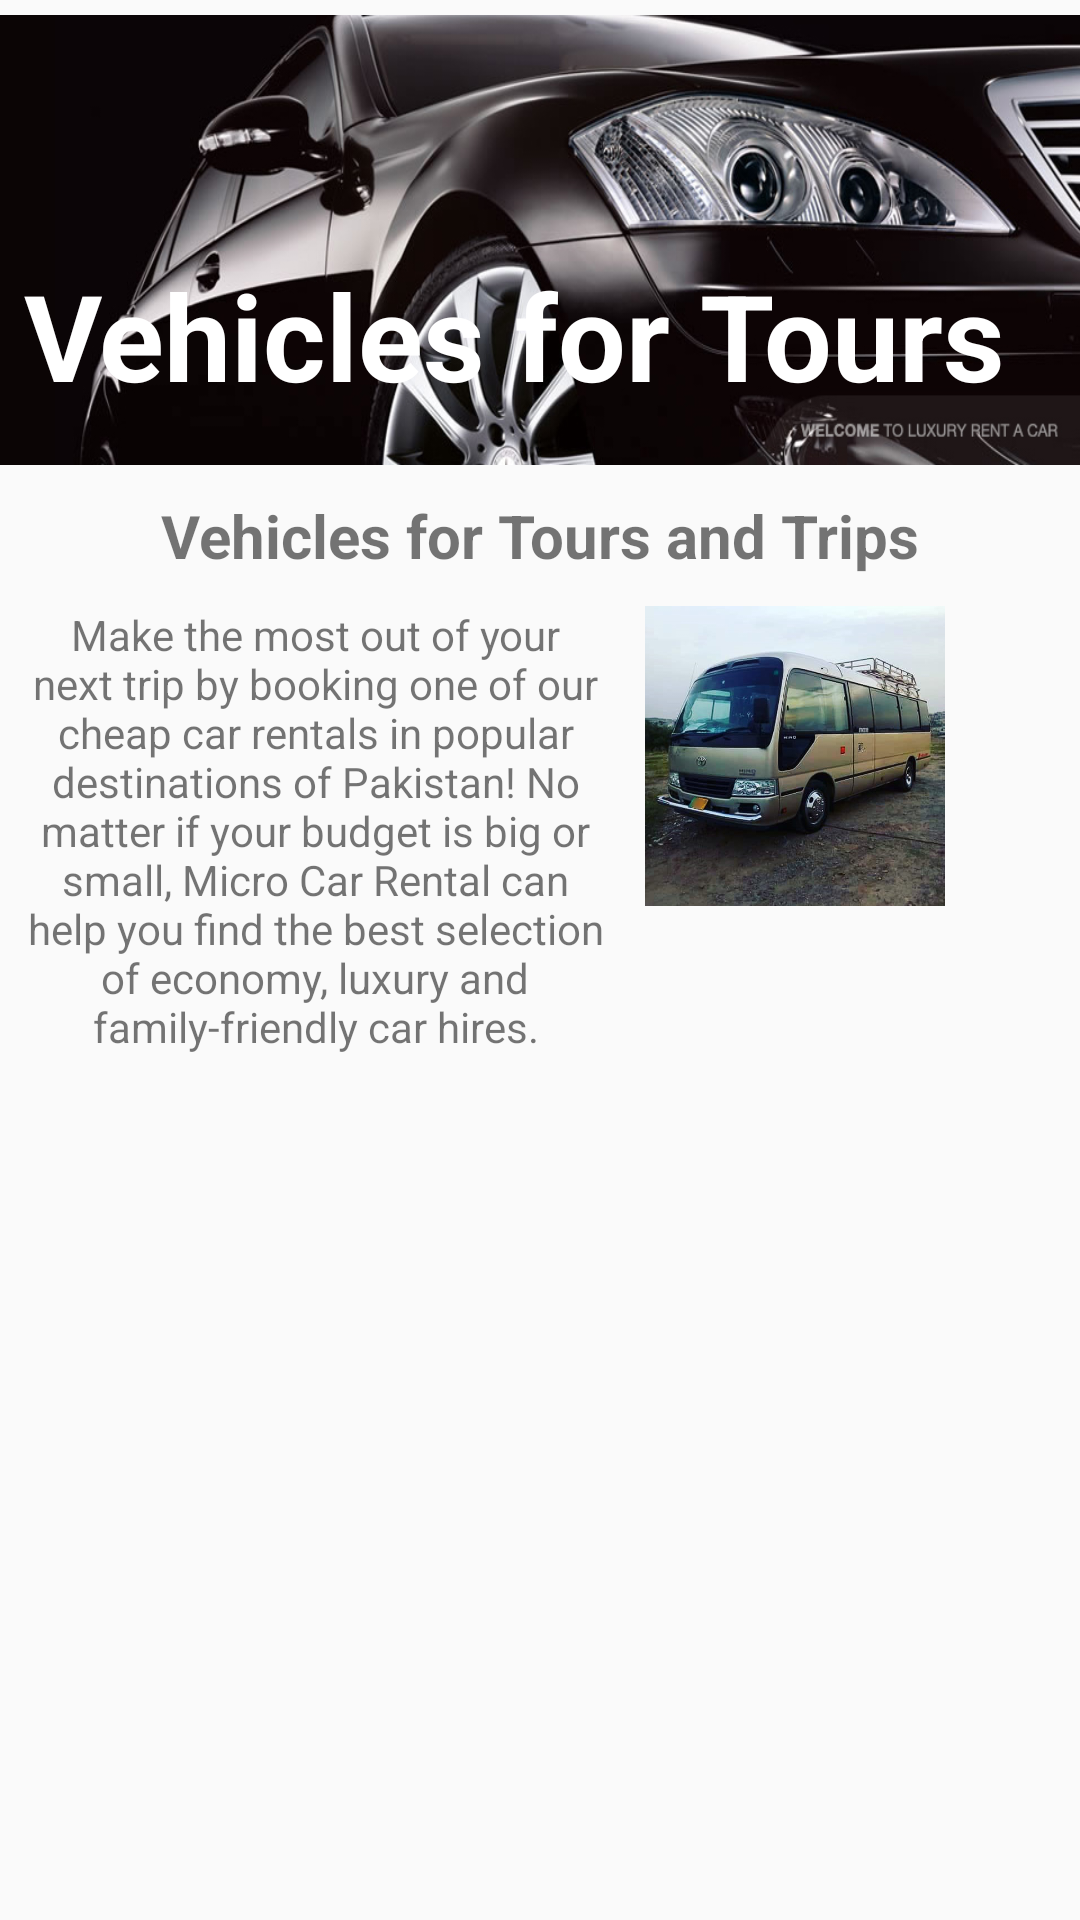

Named icons in this screenshot (1080*1920) and their bounding boxes, [x1, y1, x2, y2]:
bus: [645, 606, 945, 906]
